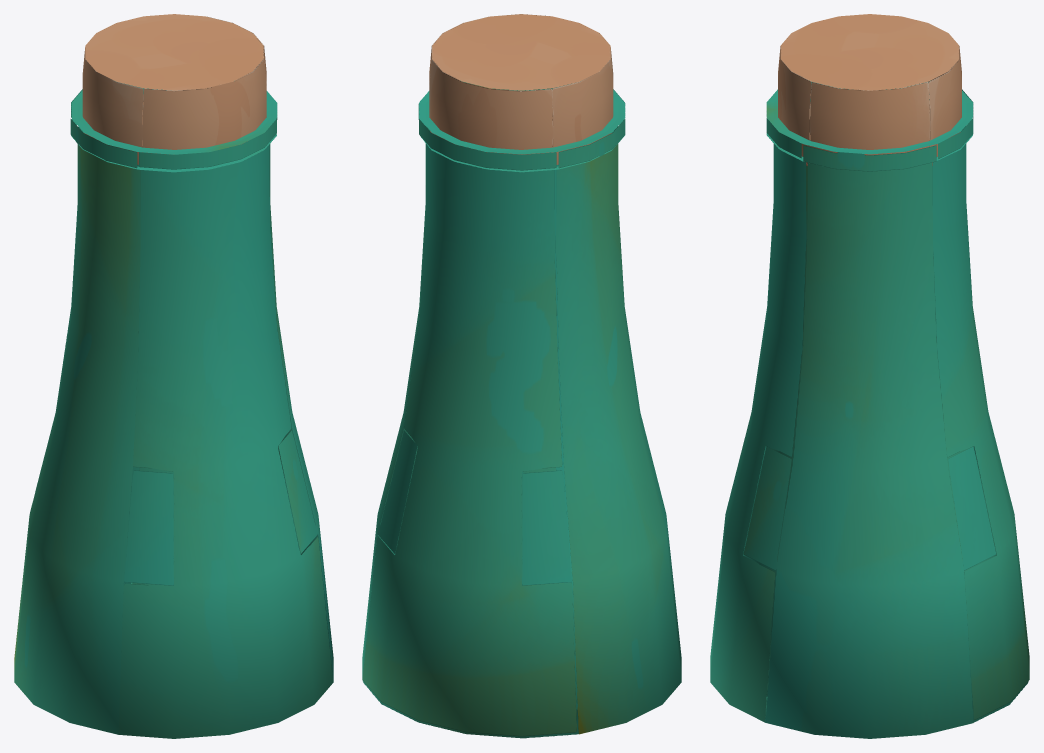
The model's file is SpeedUp.fbx.
3 renders of one model, left to right at view 1: azimuth 30°, elevation 25°; view 2: azimuth 150°, elevation 25°; view 3: azimuth 270°, elevation 25°, orthographic.
Parts seen in each view (by area): view 1: Cylinder001, Cylinder002; view 2: Cylinder001, Cylinder002; view 3: Cylinder001, Cylinder002.
Part boxes in pixels (<box>): Cylinder001: <box>14,83,333,738</box>; Cylinder002: <box>82,14,266,164</box>; Cylinder001: <box>362,80,681,738</box>; Cylinder002: <box>429,14,613,164</box>; Cylinder001: <box>710,80,1029,738</box>; Cylinder002: <box>778,14,961,165</box>.
Bounding box in the file's own units: 9.49 × 9.35 × 19.95.
Materials: 2 (2 with a texture image).
